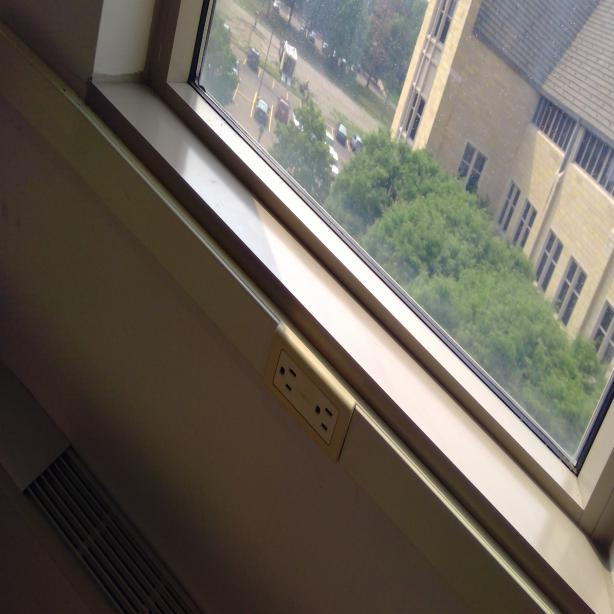typeb: (312, 389, 338, 440), (277, 358, 299, 398)
